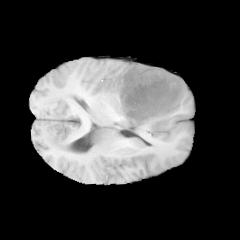glioma: (118, 63, 186, 130)
